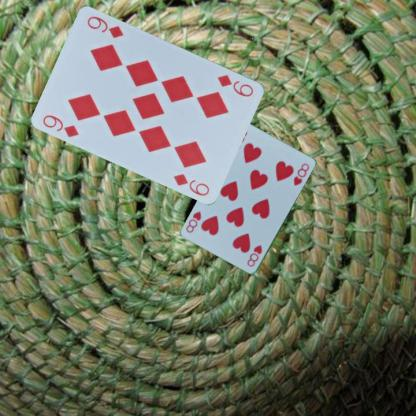8h: (245, 242, 264, 268)
9d: (41, 112, 80, 139), (215, 72, 255, 98)
